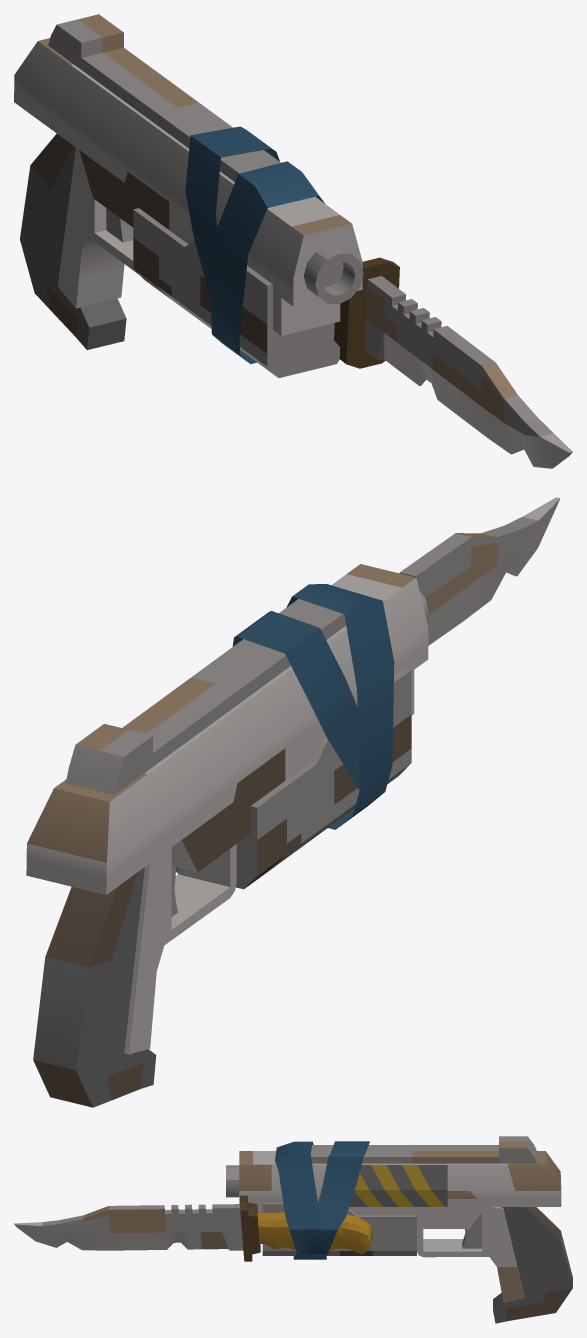
The model's file is Pistol.glb.
3 renders of one model, top to bottom at view 1: azimuth 30°, elevation 25°; view 2: azimuth 150°, elevation 25°; view 3: azimuth 270°, elevation 25°, orthographic. The views are drawn at different scales.
Visible parts, largest first — view 1: Pistol; view 2: Pistol; view 3: Pistol.
Part boxes in pixels (x1,y1,x2,y2): Pistol: [14, 14, 572, 468]; Pistol: [26, 497, 560, 1107]; Pistol: [14, 1136, 572, 1323].
Size of the model in its own units: 0.1412 by 0.3398 by 0.9764.
Materials: 1 (1 with a texture image).
